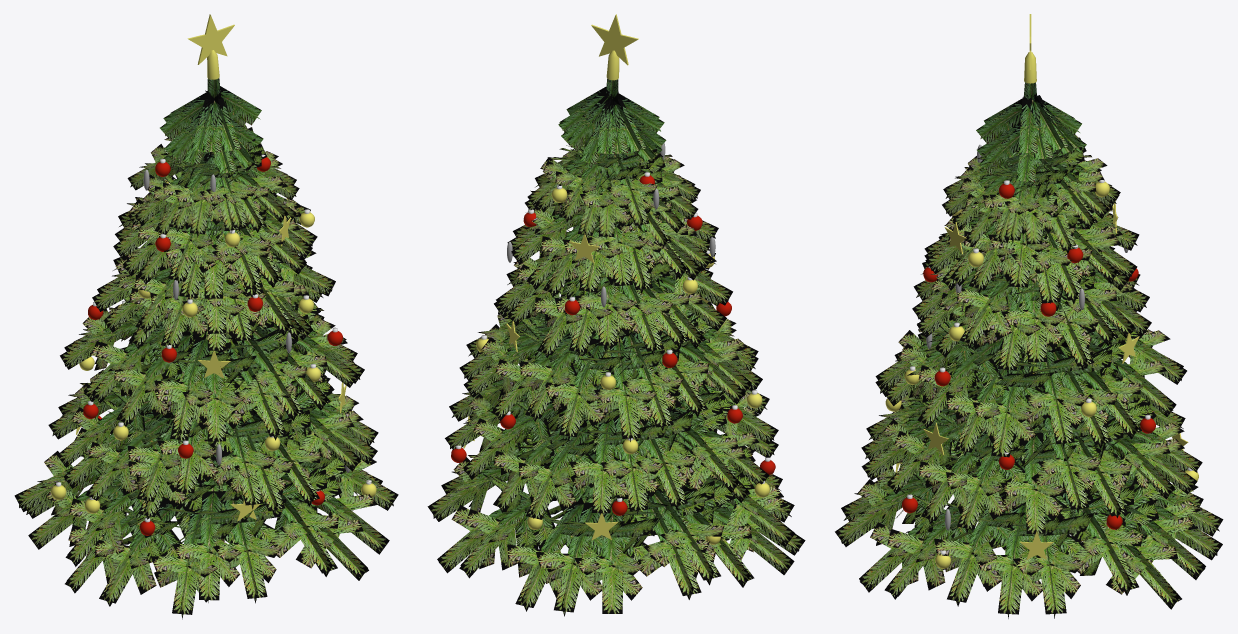
The model's file is sweethome3d-scopia-christmas-tree.glb.
The picture shows the model from 3 angles, left to right: view 1: azimuth 30°, elevation 25°; view 2: azimuth 150°, elevation 25°; view 3: azimuth 270°, elevation 25°; orthographic projection. The views are drawn at different scales.
Visible parts, largest first — view 1: Plane.072, Plane.134, Plane.123, Plane.025_Plane.028, Plane.037_Plane.042, Plane.036_Plane.041, Plane.038_Plane.043, Plane.032_Plane.037, Plane.071, Plane.133, Plane.136, Plane.139 (+64 smaller); view 2: Plane.146, Plane.049_Plane.003, Plane.012_Plane.014, Plane.060, Plane.110, Plane.100, Plane.109, Plane.011_Plane.013, Plane.002, Plane.048_Plane.053, Plane.017_Plane.020, Plane.142 (+62 smaller); view 3: Plane.024_Plane.027, Plane.013_Plane.015, Plane.111, Plane.084, Plane.020_Plane.023, Plane.121, Plane.025_Plane.028, Plane.023_Plane.026, Plane.122, Plane.118, Plane.080, Plane.026_Plane.029 (+60 smaller).
Boxes of the visible parts, x1,y1,x2,y2 form: Plane.072: [162, 454, 263, 602]; Plane.134: [95, 484, 215, 606]; Plane.123: [180, 455, 286, 603]; Plane.025_Plane.028: [214, 463, 338, 576]; Plane.037_Plane.042: [65, 464, 202, 566]; Plane.036_Plane.041: [150, 483, 242, 619]; Plane.038_Plane.043: [153, 331, 250, 436]; Plane.032_Plane.037: [203, 406, 275, 509]; Plane.071: [225, 331, 306, 420]; Plane.133: [177, 323, 258, 441]; Plane.136: [114, 323, 231, 426]; Plane.139: [85, 410, 215, 500]; Plane.146: [563, 477, 661, 613]; Plane.049_Plane.003: [536, 482, 645, 616]; Plane.012_Plane.014: [507, 486, 613, 611]; Plane.060: [607, 480, 724, 585]; Plane.110: [459, 440, 595, 578]; Plane.100: [518, 409, 619, 519]; Plane.109: [544, 329, 633, 440]; Plane.011_Plane.013: [573, 331, 665, 441]; Plane.002: [569, 388, 654, 513]; Plane.048_Plane.053: [603, 458, 709, 599]; Plane.017_Plane.020: [463, 385, 602, 479]; Plane.142: [593, 388, 695, 509]; Plane.024_Plane.027: [934, 458, 1064, 606]; Plane.013_Plane.015: [1057, 448, 1143, 595]; Plane.111: [996, 492, 1094, 618]; Plane.084: [971, 474, 1069, 618]; Plane.020_Plane.023: [999, 422, 1076, 534]; Plane.121: [970, 335, 1065, 458]; Plane.025_Plane.028: [835, 467, 986, 546]; Plane.023_Plane.026: [1014, 325, 1093, 448]; Plane.122: [884, 459, 1012, 599]; Plane.118: [946, 416, 1047, 532]; Plane.080: [1022, 387, 1101, 513]; Plane.026_Plane.029: [917, 333, 1038, 428].
Bounding box in the file's own units: 128 × 203 × 130.
Materials: 6 (1 with a texture image).
